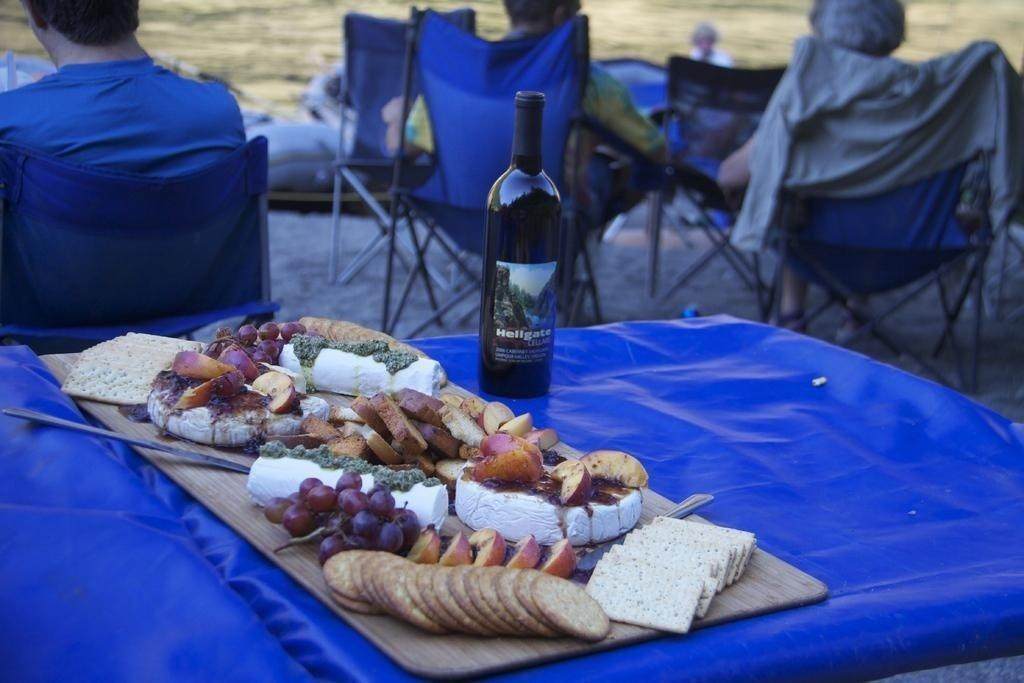bottle-glass: (475, 88, 564, 402)
